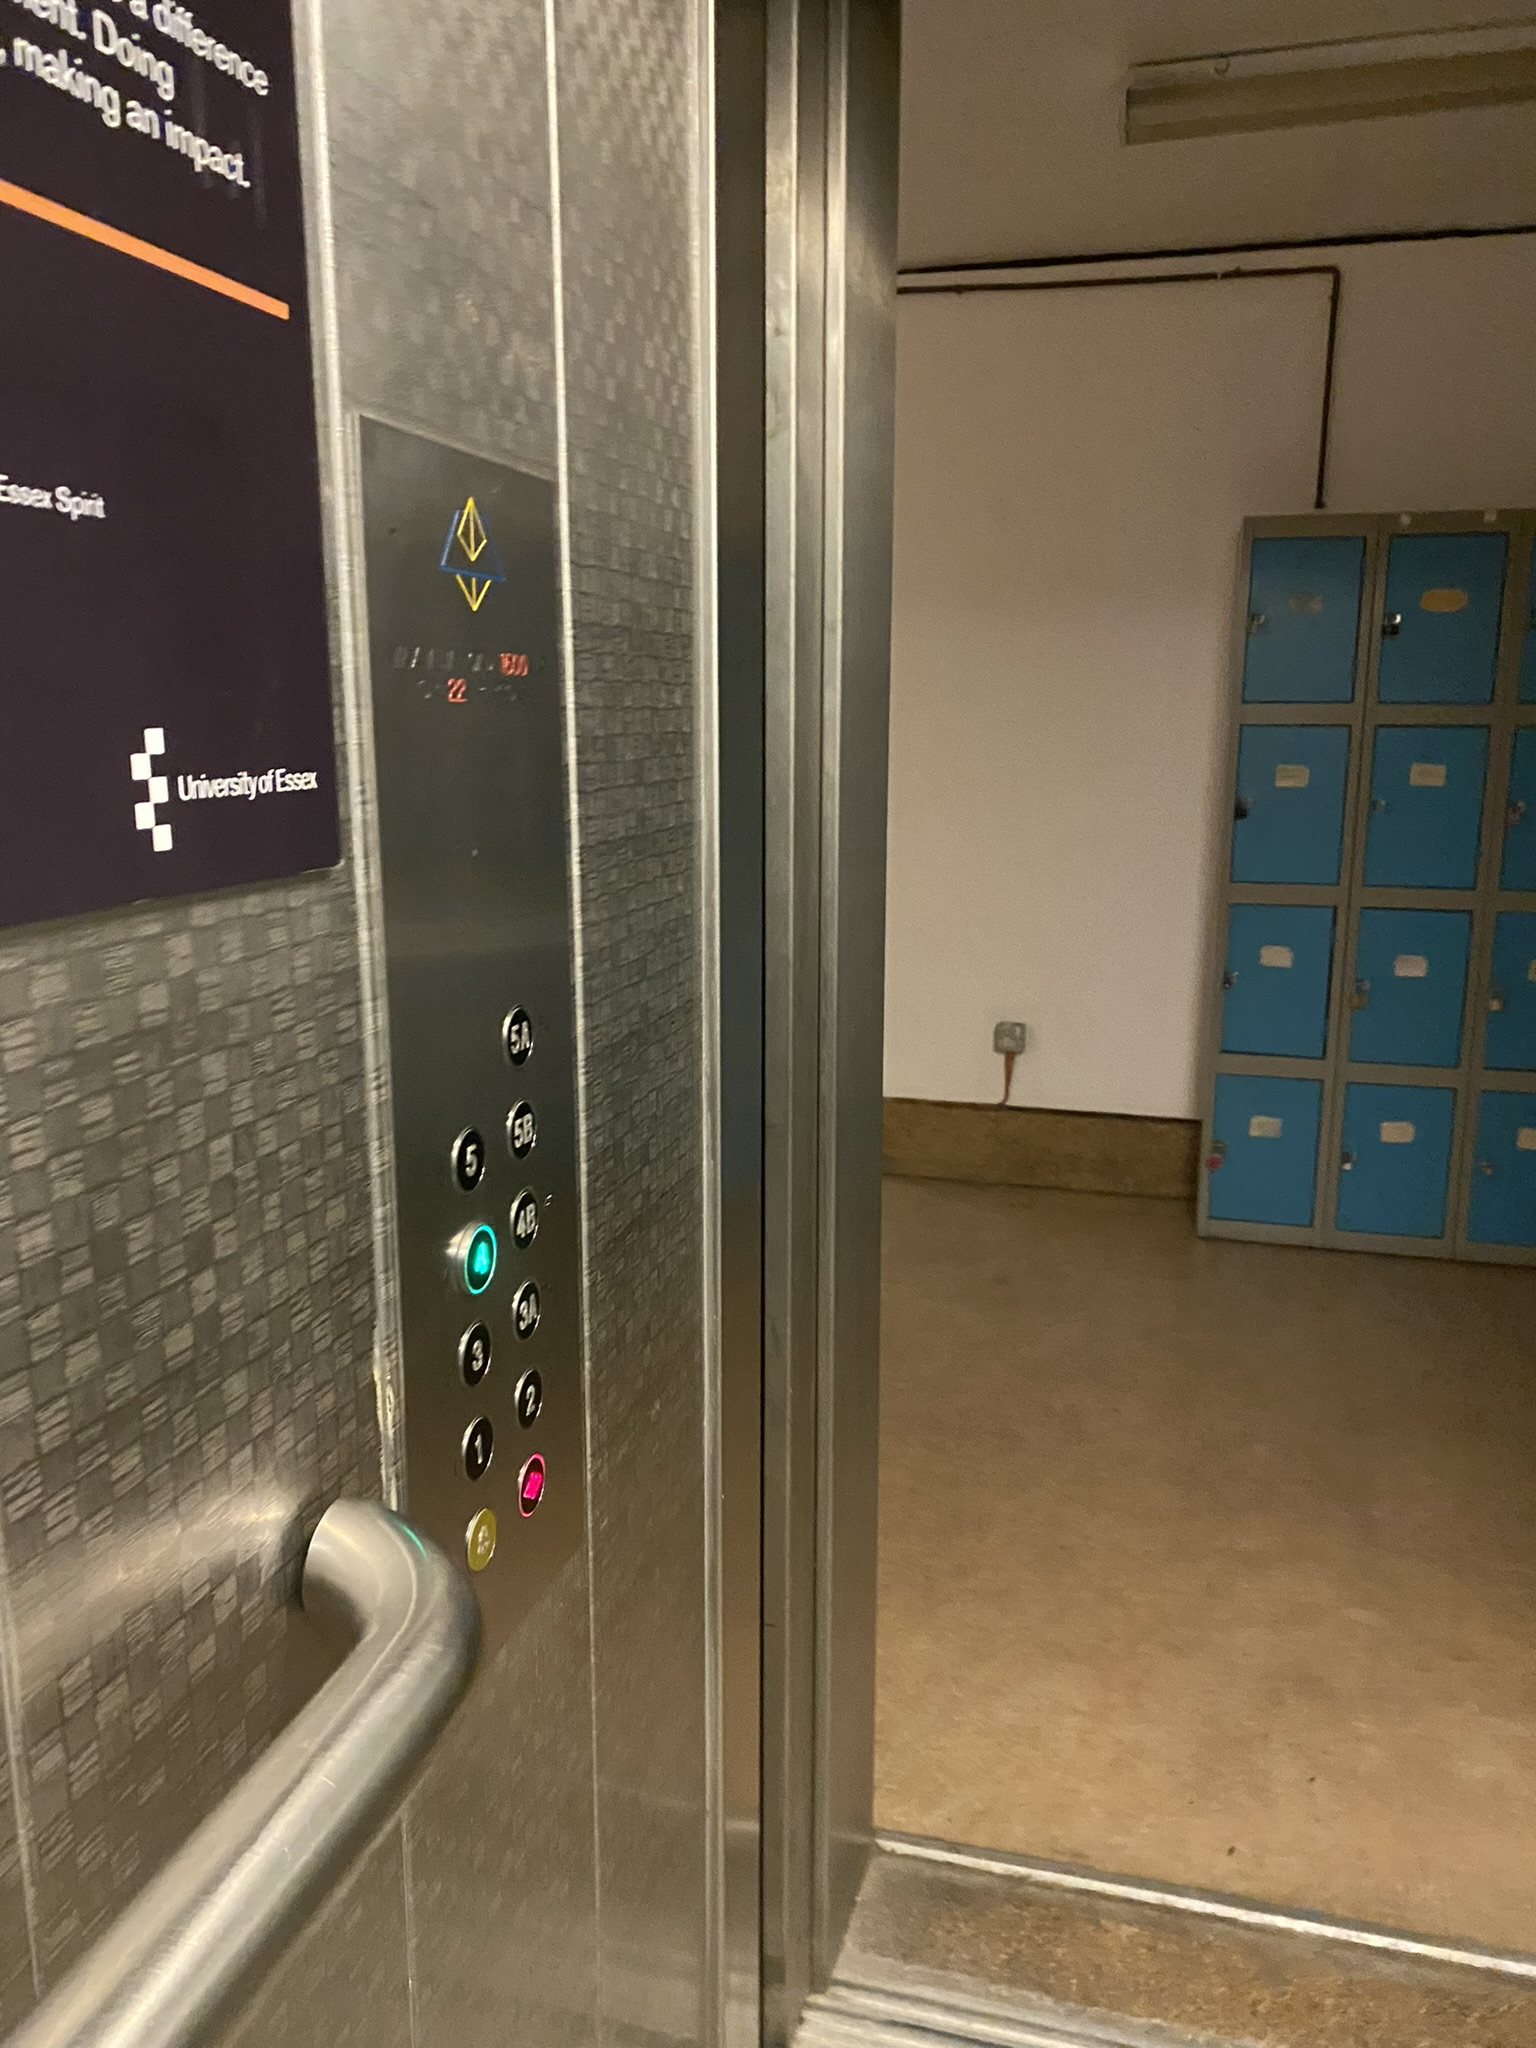buttons: (339, 956, 928, 1543)
